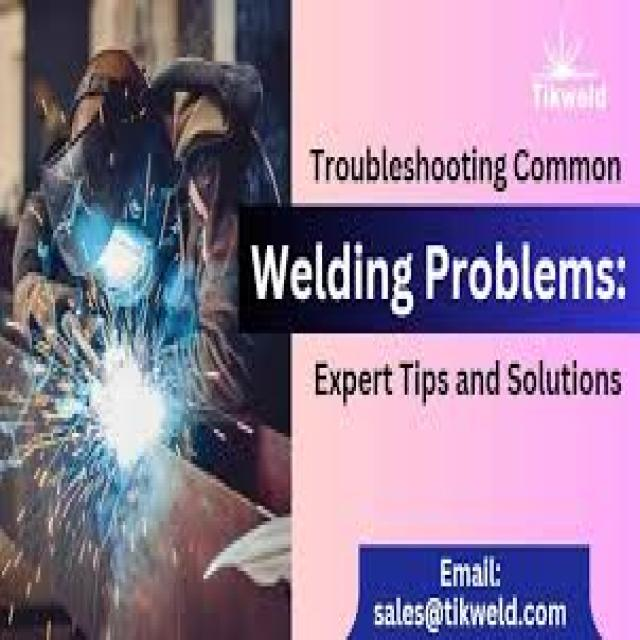welding: (109, 360, 163, 450)
